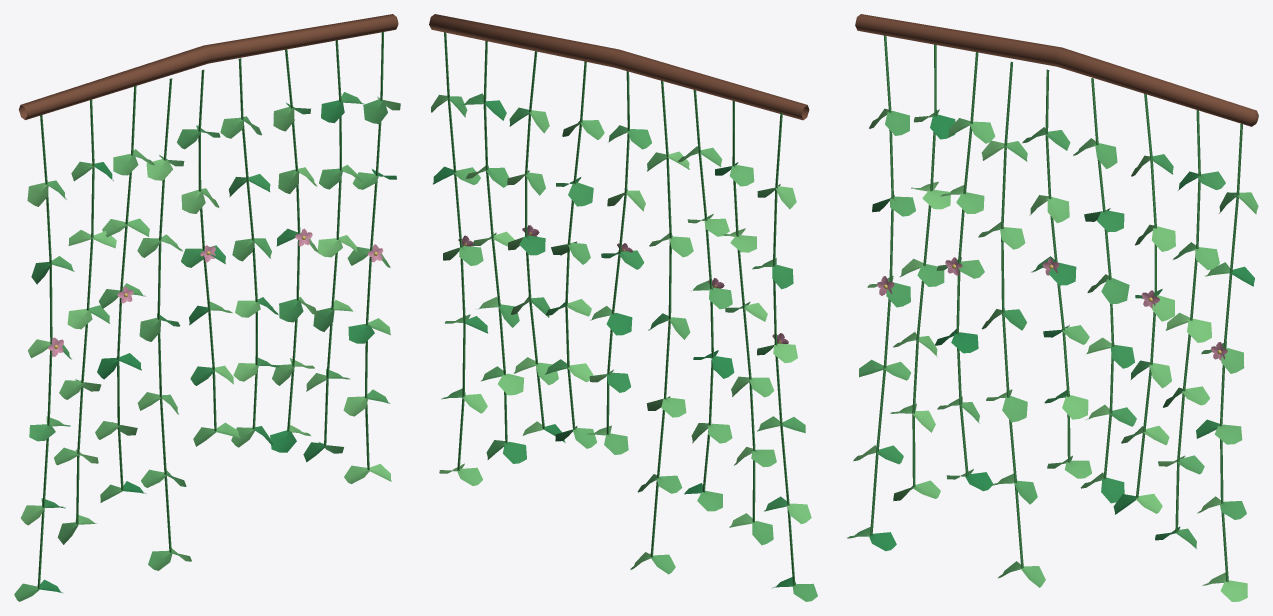
Rendered from flora_ivy_curtain.gltf.
The picture shows the model from 3 angles, left to right: view 1: azimuth 30°, elevation 25°; view 2: azimuth 150°, elevation 25°; view 3: azimuth 330°, elevation 25°; orthographic projection. The views are drawn at different scales.
Visible parts, largest first — view 1: flora_ivy_curtain; view 2: flora_ivy_curtain; view 3: flora_ivy_curtain.
Part boxes in pixels (<box>): flora_ivy_curtain: <box>14,14,400,601</box>; flora_ivy_curtain: <box>429,14,817,601</box>; flora_ivy_curtain: <box>847,14,1258,601</box>.
Size of what is drawn, in the model's own units: 1.65 by 2.1 by 0.1823.
